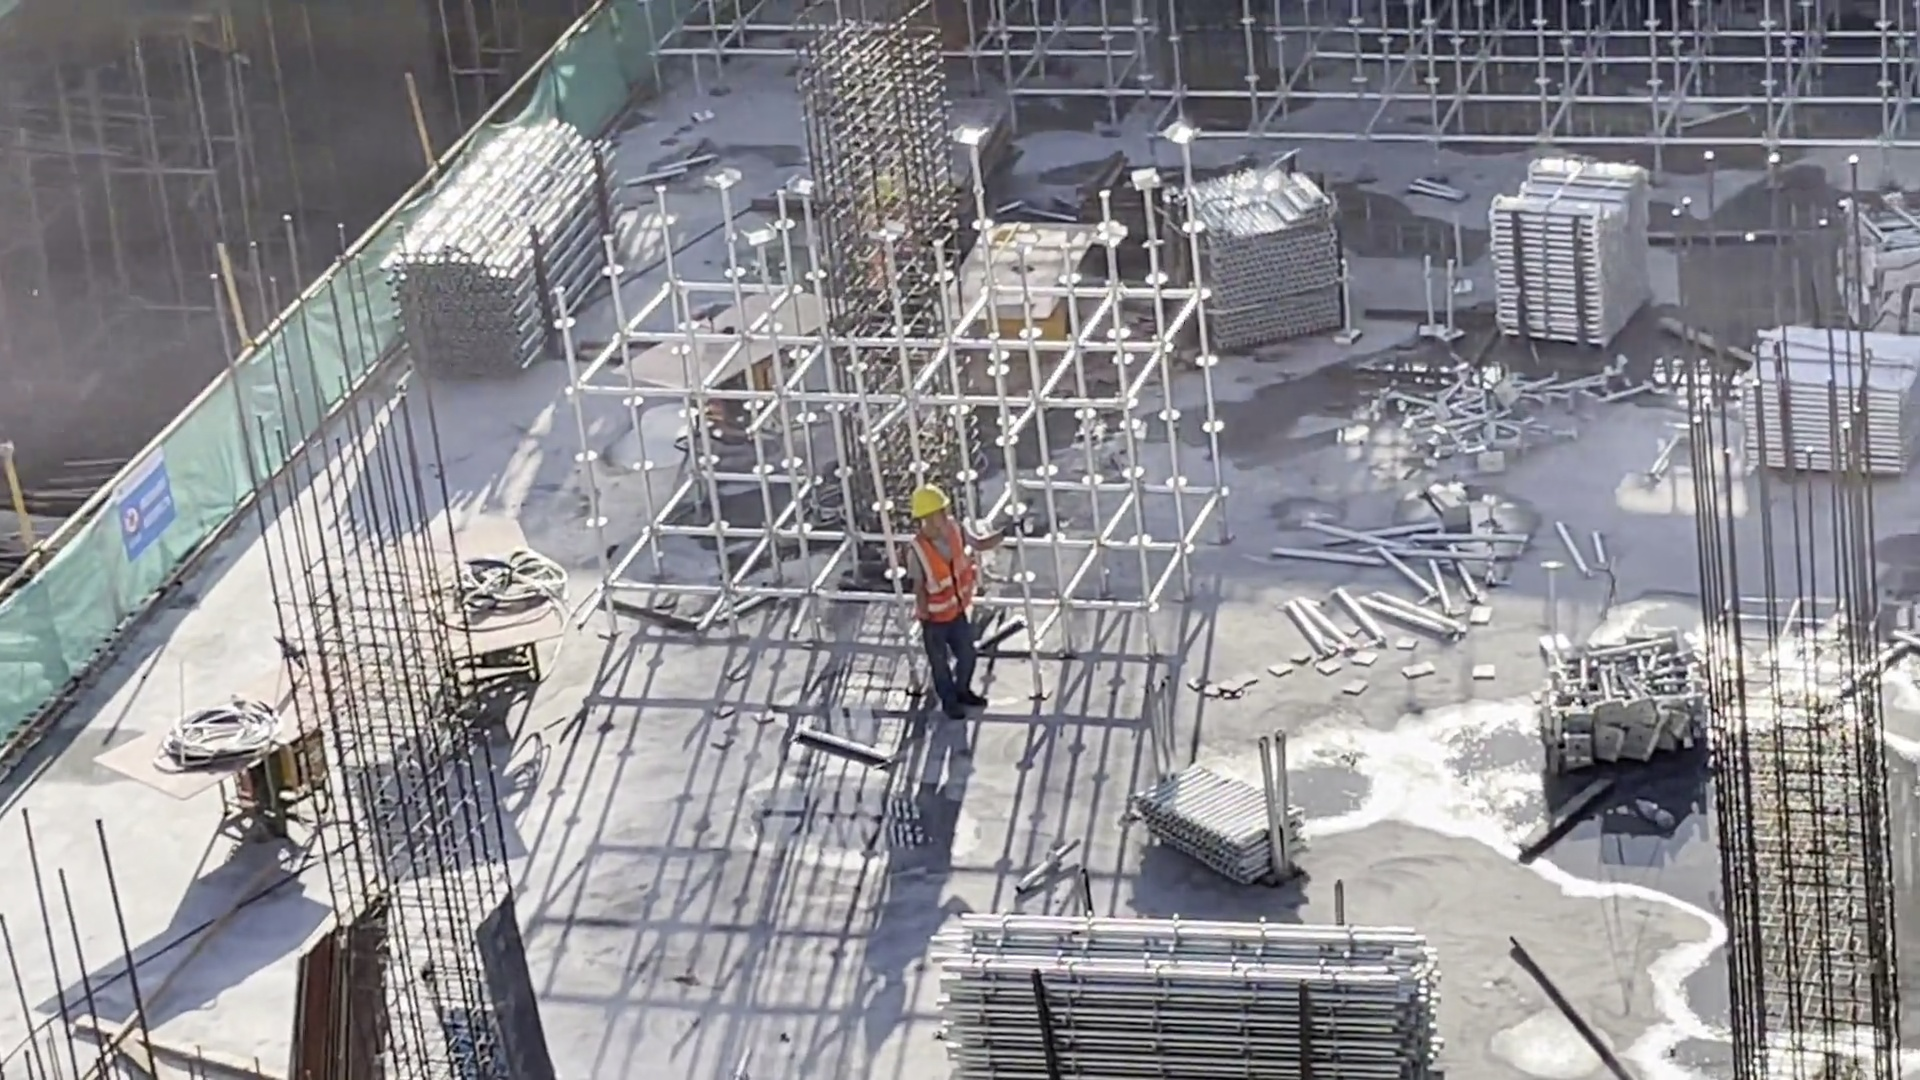board: (277, 904, 414, 1079)
cutter: (95, 646, 374, 841), (592, 282, 849, 463), (382, 520, 591, 713), (915, 215, 1138, 361)
helmet: (912, 486, 958, 523)
person: (899, 482, 992, 722)
scaffold: (929, 900, 1443, 1070), (395, 123, 623, 374), (1157, 162, 1362, 340), (1464, 147, 1620, 359), (1743, 318, 1918, 493), (1121, 765, 1319, 875), (1532, 635, 1695, 761), (1420, 371, 1568, 470), (1835, 185, 1920, 337)
slogan: (103, 426, 197, 563)
vest: (906, 516, 976, 622)
